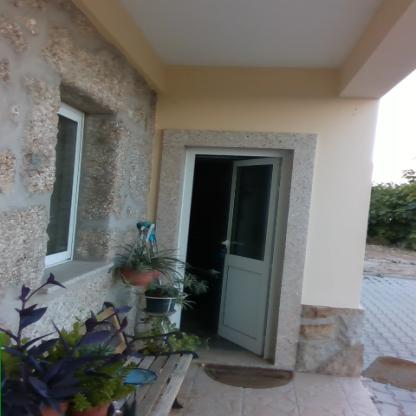semi: (157, 140, 306, 363)
